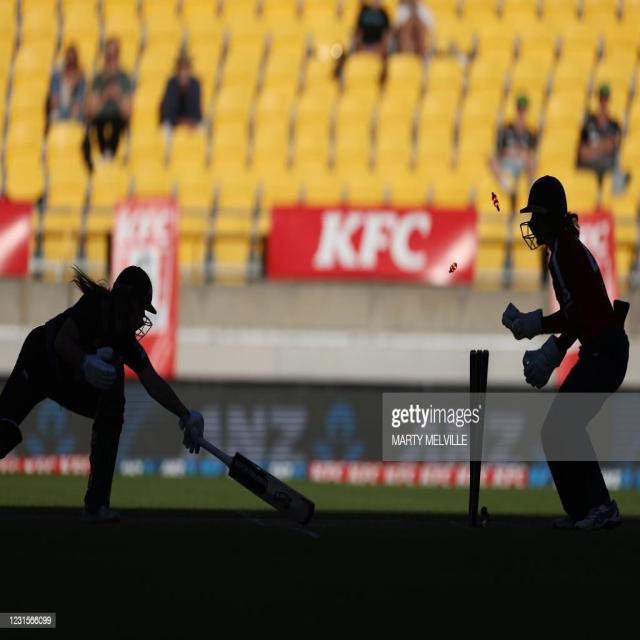stump: (468, 347, 489, 515)
